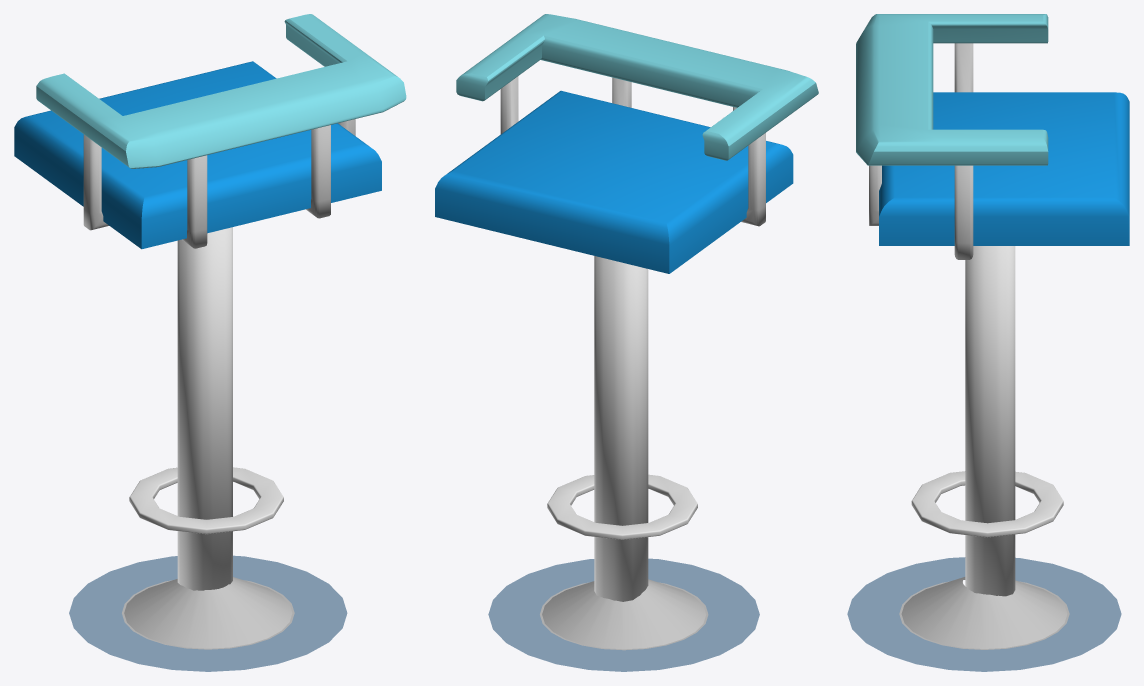
File: BarChair.fbx
3 renders of one model, left to right at view 1: azimuth 30°, elevation 25°; view 2: azimuth 150°, elevation 25°; view 3: azimuth 270°, elevation 25°, orthographic. The views are drawn at different scales.
Parts seen in each view (by area): view 1: BarChair.002, BarChair.004, BarChair.001, BarChair, Cube.007, BarChair.003; view 2: BarChair.002, BarChair.004, BarChair.001, BarChair, BarChair.003, Cube.007; view 3: BarChair.002, BarChair.004, BarChair.001, BarChair, BarChair.003, Cube.007.
Part boxes in pixels (x1,y1,x2,y2): BarChair.002: (14,61,381,249); BarChair.004: (69,555,347,671); BarChair.001: (36,14,406,168); BarChair: (177,227,232,590); Cube.007: (83,119,355,248); BarChair.003: (129,467,283,534); BarChair.002: (435,90,793,273); BarChair.004: (488,558,759,671); BarChair.001: (456,14,818,160); BarChair: (594,256,648,601); BarChair.003: (547,474,697,539); Cube.007: (500,76,765,226); BarChair.002: (879,92,1129,245); BarChair.004: (847,557,1121,671); BarChair.001: (856,14,1048,165); BarChair: (965,246,1015,596); BarChair.003: (911,471,1063,537); Cube.007: (869,43,973,259).
Bounding box in the file's own units: 125 × 234 × 111.
